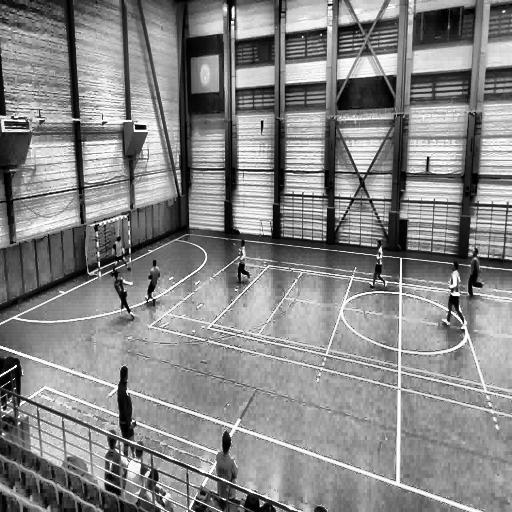player: (214, 430, 238, 500), (103, 431, 129, 494), (117, 369, 134, 456), (114, 250, 135, 320), (443, 261, 465, 327), (142, 468, 173, 512), (123, 441, 147, 497), (370, 238, 388, 289), (110, 235, 132, 275), (468, 248, 484, 297), (236, 238, 250, 284), (146, 260, 160, 306)
